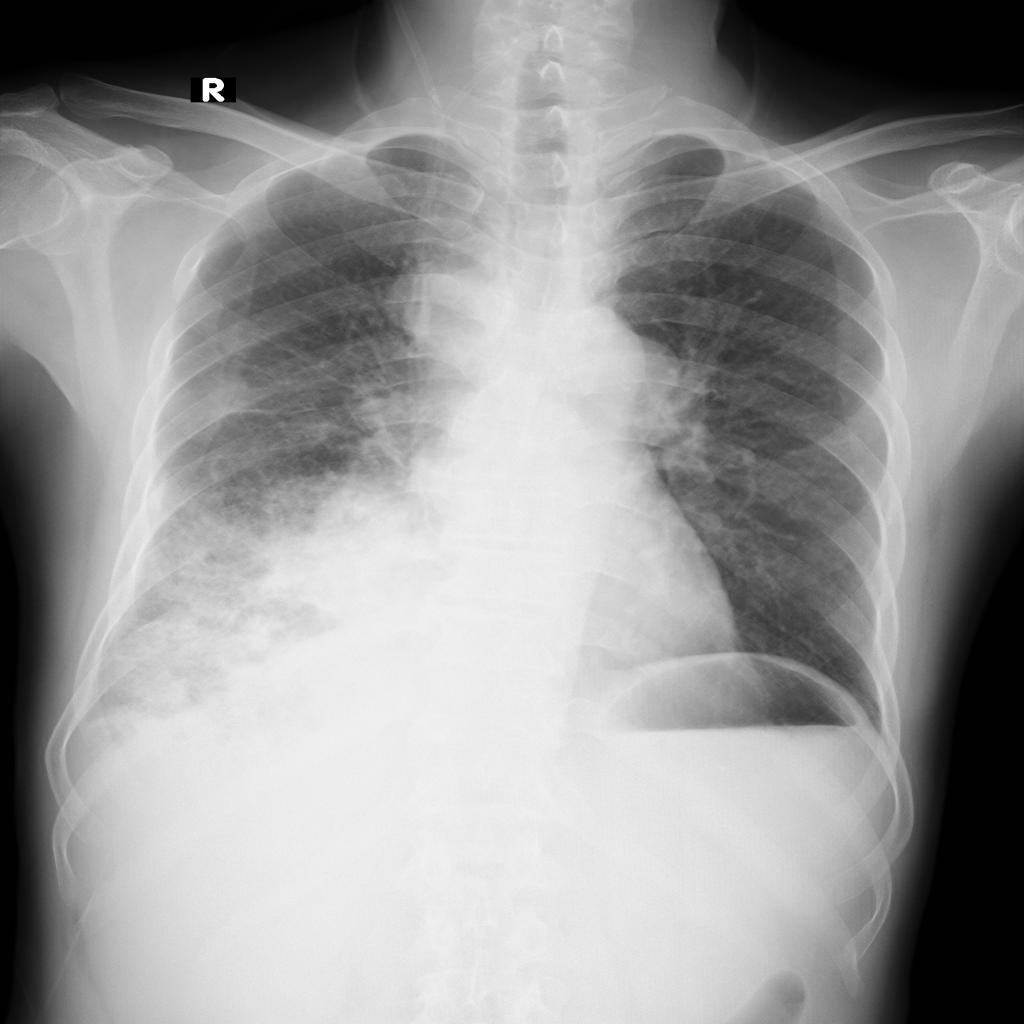Nodule: (172, 480, 424, 638), (571, 338, 683, 434), (376, 256, 496, 343)
